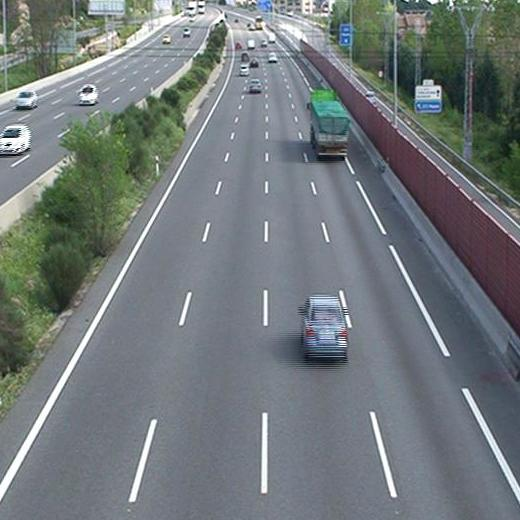car: (297, 296, 350, 361), (247, 78, 263, 95), (238, 65, 250, 77), (268, 52, 279, 63), (240, 51, 250, 63), (250, 56, 260, 66)
truck: (308, 88, 350, 159)
